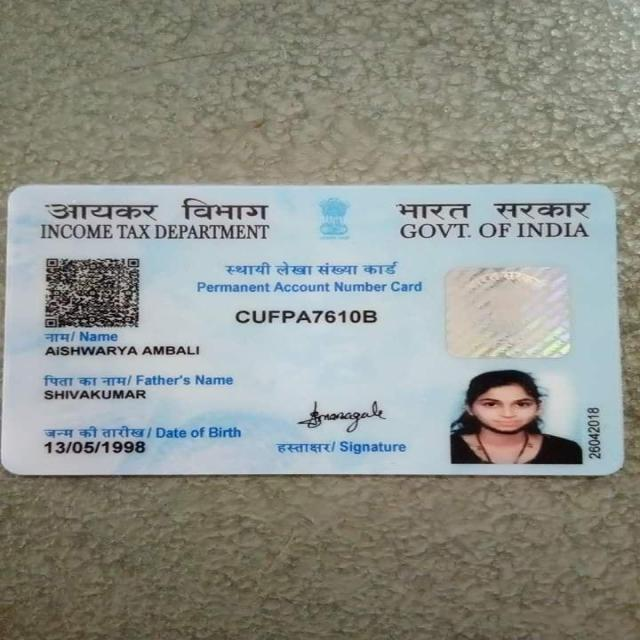pan_card: (11, 189, 616, 472)
